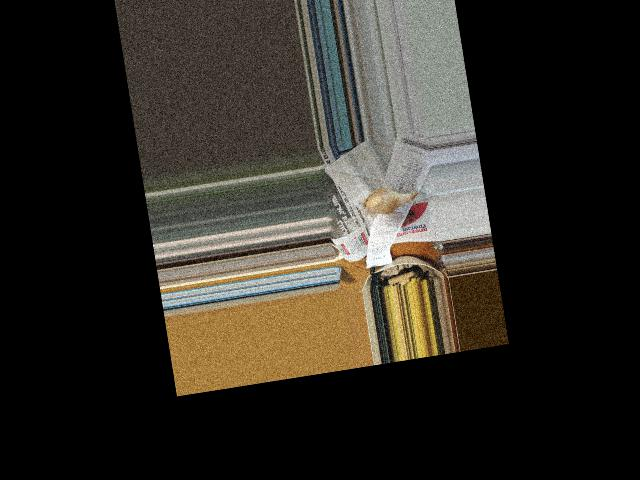onion: (363, 189, 401, 215)
